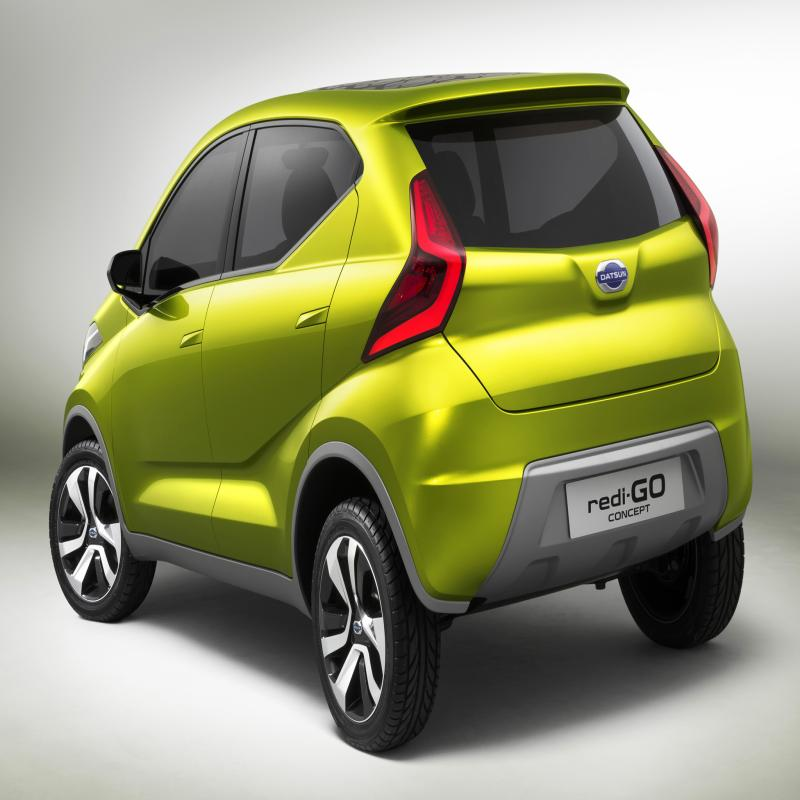car: (38, 59, 762, 730)
